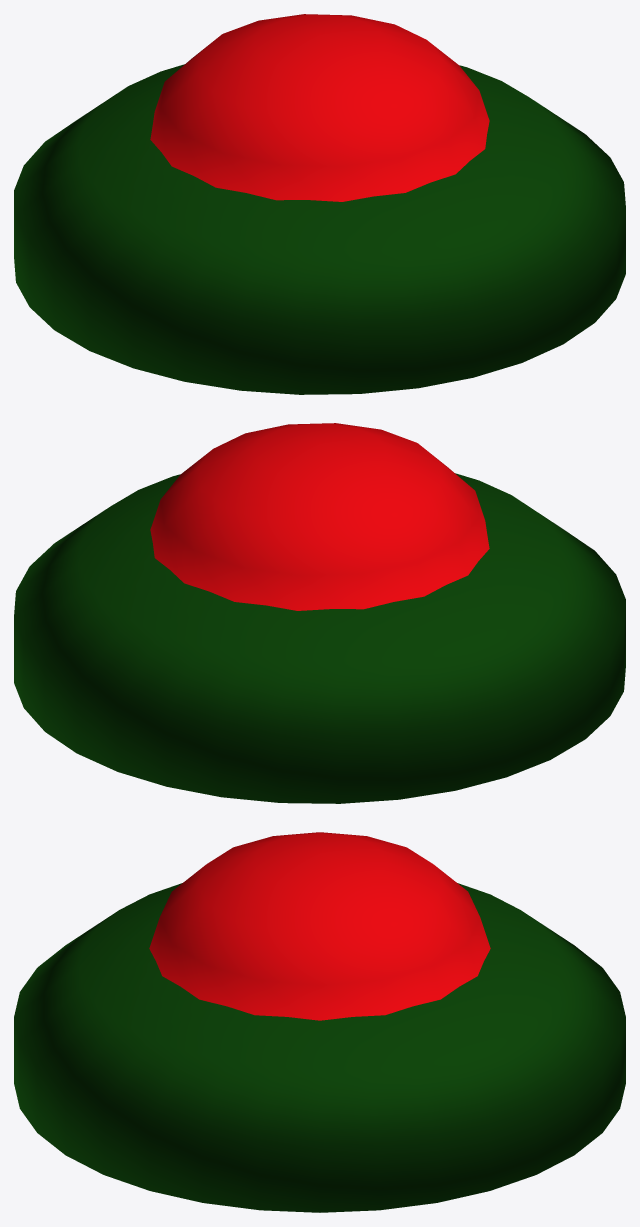
File: LandMine.fbx
3 views of the same model, one above another, from view 1: azimuth 30°, elevation 25°; view 2: azimuth 150°, elevation 25°; view 3: azimuth 270°, elevation 25° (orthographic).
Parts seen in each view (by area): view 1: Cylinder, Cylinder.001; view 2: Cylinder, Cylinder.001; view 3: Cylinder, Cylinder.001.
Boxes of the visible parts, box(x1,y1,x2,y2) form: Cylinder: box(14, 64, 625, 394); Cylinder.001: box(150, 14, 489, 201); Cylinder: box(14, 473, 625, 803); Cylinder.001: box(150, 423, 489, 610); Cylinder: box(14, 883, 625, 1212); Cylinder.001: box(149, 832, 490, 1020).
Size of the model in its own units: 79.99 by 33.14 by 79.99.
